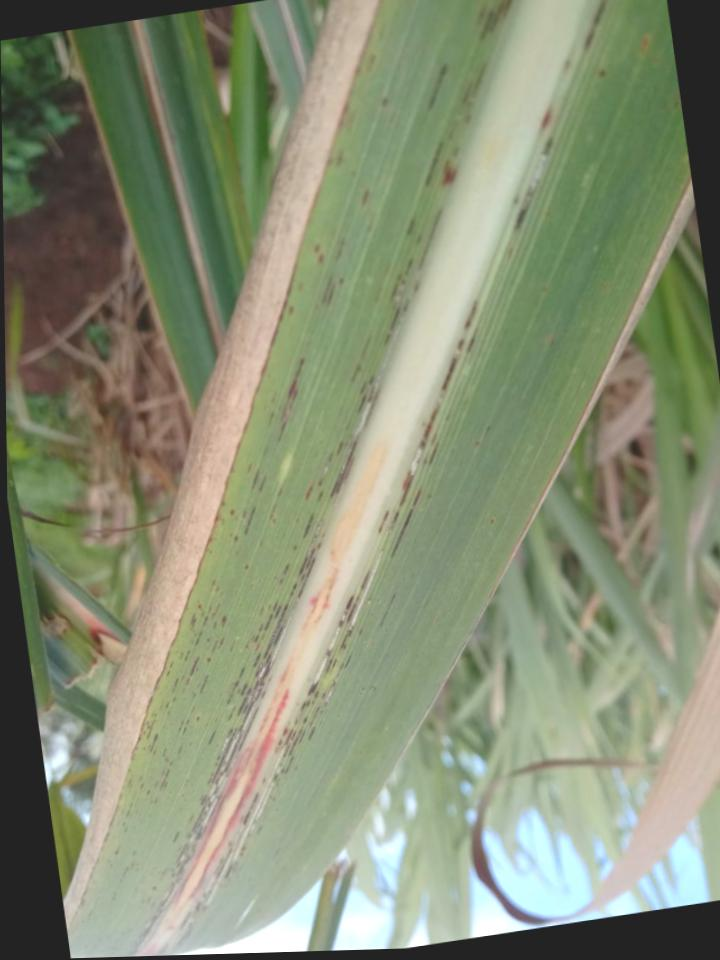RedRot: (172, 436, 392, 918)
Rust: (127, 0, 520, 957), (175, 542, 385, 945), (92, 577, 235, 871), (376, 297, 487, 566), (202, 351, 307, 558), (506, 100, 563, 240), (308, 232, 351, 311), (575, 0, 613, 60)
